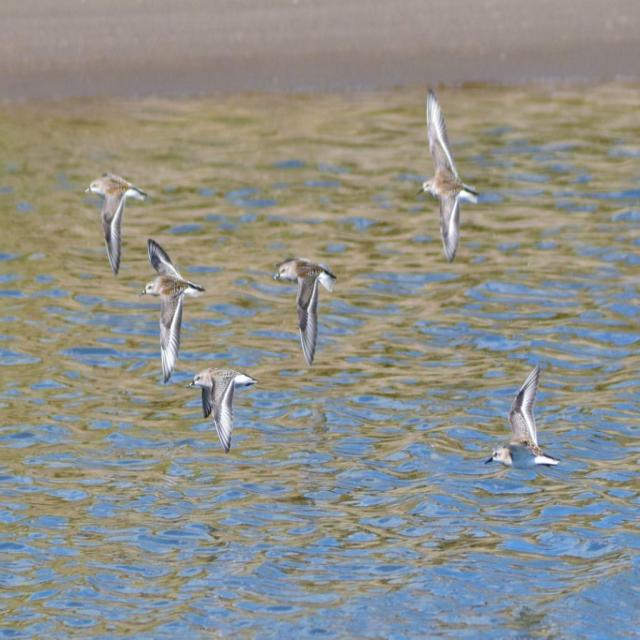bird: (419, 92, 485, 266), (134, 237, 206, 391), (268, 258, 346, 373), (84, 177, 150, 276), (496, 360, 556, 464), (184, 369, 256, 454)
